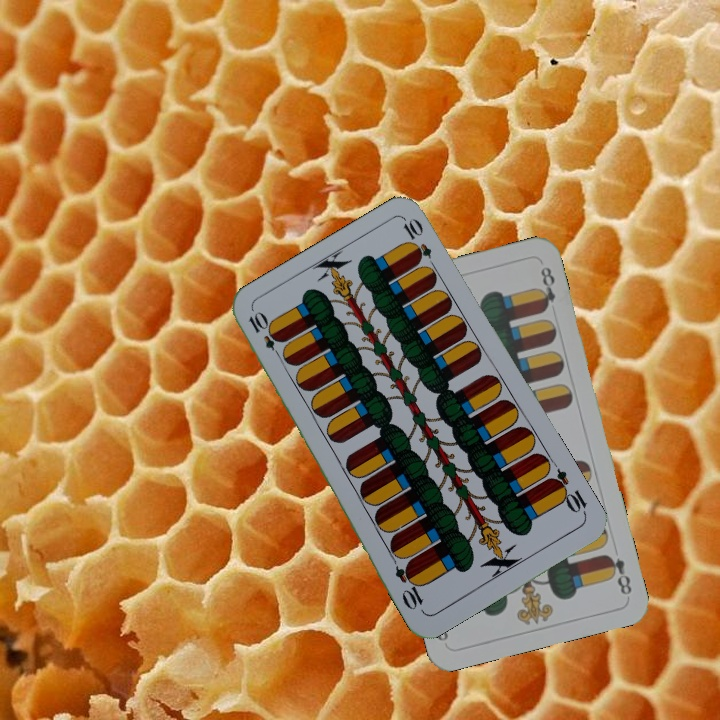E10: (545, 465, 590, 519), (244, 308, 286, 362)
E8: (601, 550, 635, 598)
